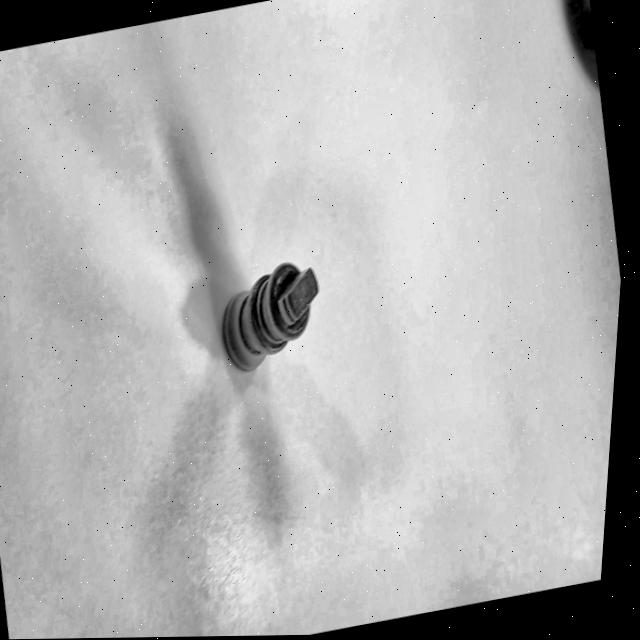black-king: (193, 234, 348, 395)
